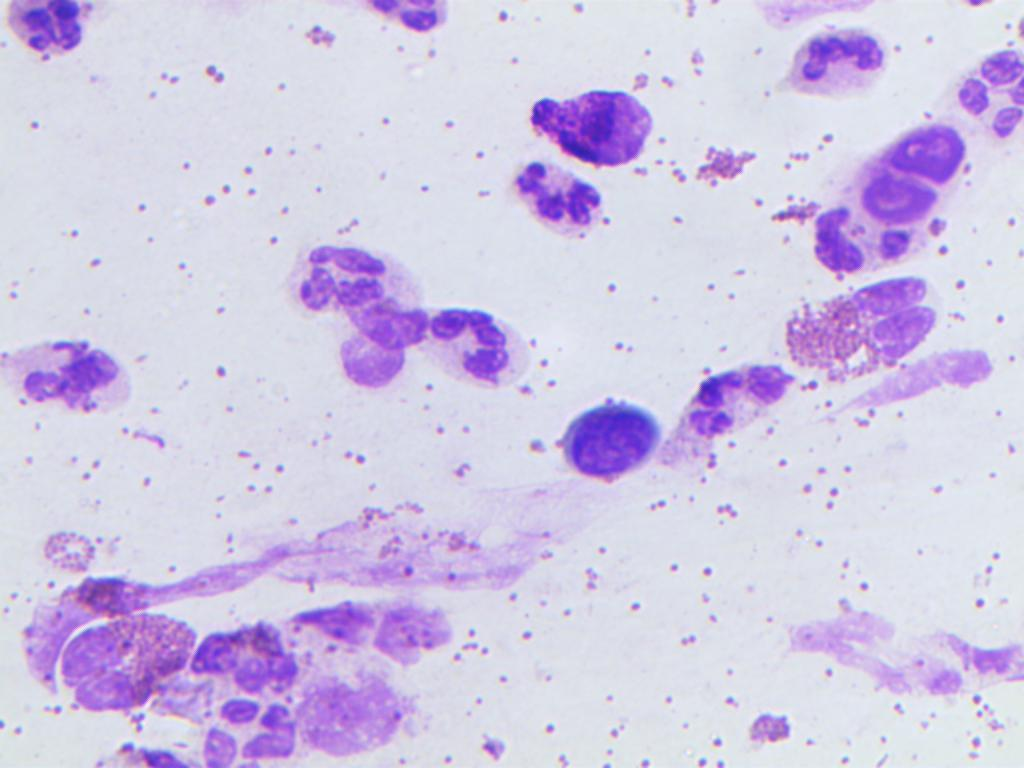artifact: (287, 583, 454, 674), (291, 660, 413, 756), (324, 330, 419, 386)
eosinophil: (780, 270, 949, 370), (66, 602, 211, 708)
epithelial: (518, 59, 655, 170), (862, 118, 977, 182), (845, 171, 960, 235)
lymphocyte: (519, 387, 660, 481)
neutrophil: (0, 324, 142, 447), (754, 204, 954, 273), (280, 225, 413, 320), (487, 156, 619, 248), (425, 302, 538, 402), (676, 362, 799, 440), (0, 0, 120, 79), (931, 32, 1023, 133), (193, 604, 287, 694), (202, 692, 312, 767), (788, 24, 893, 98), (349, 0, 453, 49)
